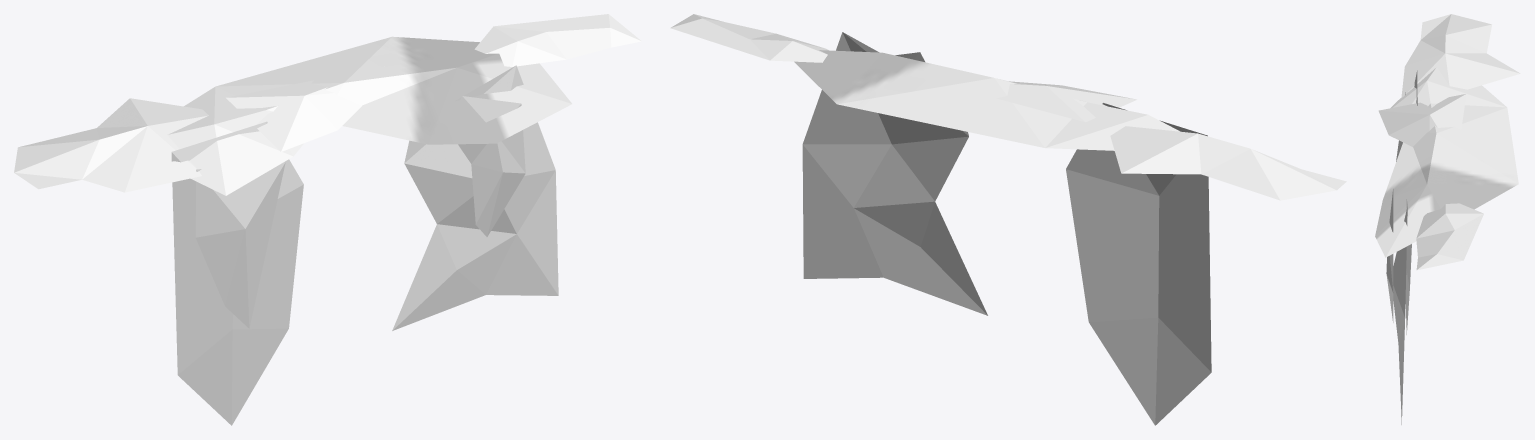
Rendered from ancient_SM_Env_Ivy_Draped_Flowers_01.gltf.
3 renders of one model, left to right at view 1: azimuth 30°, elevation 25°; view 2: azimuth 150°, elevation 25°; view 3: azimuth 270°, elevation 25°, orthographic. The views are drawn at different scales.
Parts seen in each view (by area): view 1: SM_Env_Ivy_Draped_Flowers_01; view 2: SM_Env_Ivy_Draped_Flowers_01; view 3: SM_Env_Ivy_Draped_Flowers_01.
Part boxes in pixels (<box>): SM_Env_Ivy_Draped_Flowers_01: <box>14,14,641,425</box>; SM_Env_Ivy_Draped_Flowers_01: <box>670,14,1346,425</box>; SM_Env_Ivy_Draped_Flowers_01: <box>1375,14,1520,424</box>.
Bounding box in the file's own units: 3.18 × 1.5 × 0.7692.
1 material, 1 textured.
